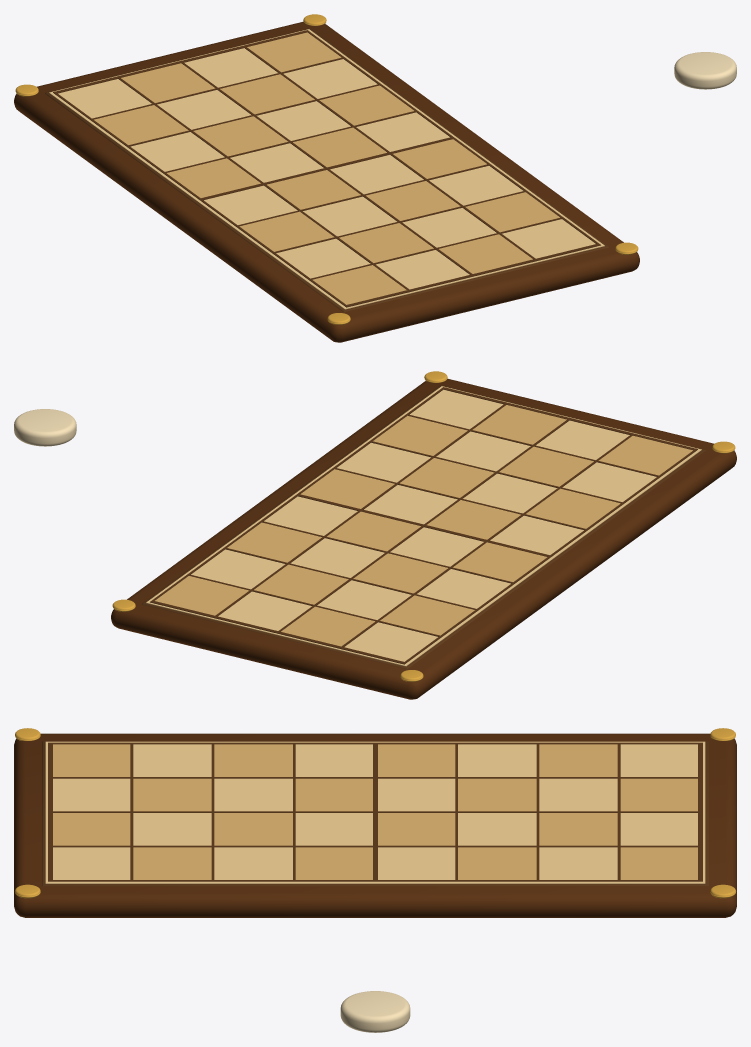
The model's file is chess.glb.
3 renders of one model, top to bottom at view 1: azimuth 30°, elevation 25°; view 2: azimuth 150°, elevation 25°; view 3: azimuth 270°, elevation 25°, orthographic. The views are drawn at different scales.
Visible parts, largest first — view 1: Surface, Frame, Inlay, Tile.004, Tile.005, Tile.002, Tile.003, Tile.010, Tile.012, Tile.013, Tile.011, Tile.014 (+22 smaller); view 2: Surface, Frame, Inlay, Tile.004, Tile.003, Tile.010, Tile.002, Tile.005, Tile.012, Tile.013, Tile.011, Tile (+22 smaller); view 3: Surface, Frame, Inlay, Tile.004, Tile.012, Tile, Tile.008, Tile.002, Tile.003, Tile.005, Tile.010, Tile.011 (+20 smaller).
Part boxes in pixels (left/top/right/bottom): Surface: left=49, top=29, right=604, bottom=309; Frame: left=14, top=21, right=639, bottom=342; Inlay: left=45, top=28, right=608, bottom=311; Tile.004: left=193, top=116, right=288, bottom=156; Tile.005: left=319, top=85, right=414, bottom=125; Tile.002: left=94, top=105, right=188, bottom=144; Tile.003: left=220, top=74, right=314, bottom=114; Tile.010: left=239, top=211, right=334, bottom=251; Tile.012: left=339, top=223, right=433, bottom=262; Tile.013: left=465, top=192, right=559, bottom=232; Tile.011: left=366, top=181, right=460, bottom=220; Tile.014: left=312, top=265, right=406, bottom=304; Surface: left=146, top=386, right=701, bottom=666; Frame: left=111, top=378, right=736, bottom=699; Inlay: left=142, top=385, right=705, bottom=668; Tile.004: left=353, top=553, right=447, bottom=593; Tile.003: left=254, top=564, right=348, bottom=604; Tile.010: left=526, top=488, right=620, bottom=528; Tile.002: left=380, top=595, right=474, bottom=635; Tile.005: left=227, top=522, right=321, bottom=562; Tile.012: left=499, top=446, right=593, bottom=486; Tile.013: left=373, top=415, right=467, bottom=455; Tile.011: left=400, top=458, right=494, bottom=497; Tile: left=281, top=606, right=375, bottom=646; Surface: left=45, top=741, right=705, bottom=883; Frame: left=14, top=733, right=736, bottom=917; Inlay: left=42, top=741, right=708, bottom=886; Tile.004: left=458, top=778, right=536, bottom=811; Tile.012: left=133, top=778, right=211, bottom=811; Tile: left=620, top=778, right=697, bottom=811; Tile.008: left=295, top=778, right=372, bottom=811; Tile.002: left=539, top=744, right=617, bottom=776; Tile.003: left=539, top=813, right=617, bottom=845; Tile.005: left=458, top=847, right=536, bottom=879; Tile.010: left=214, top=744, right=292, bottom=776; Tile.011: left=214, top=813, right=292, bottom=845.
Size of the model in its own units: 8.88 by 0.54 by 8.9.
